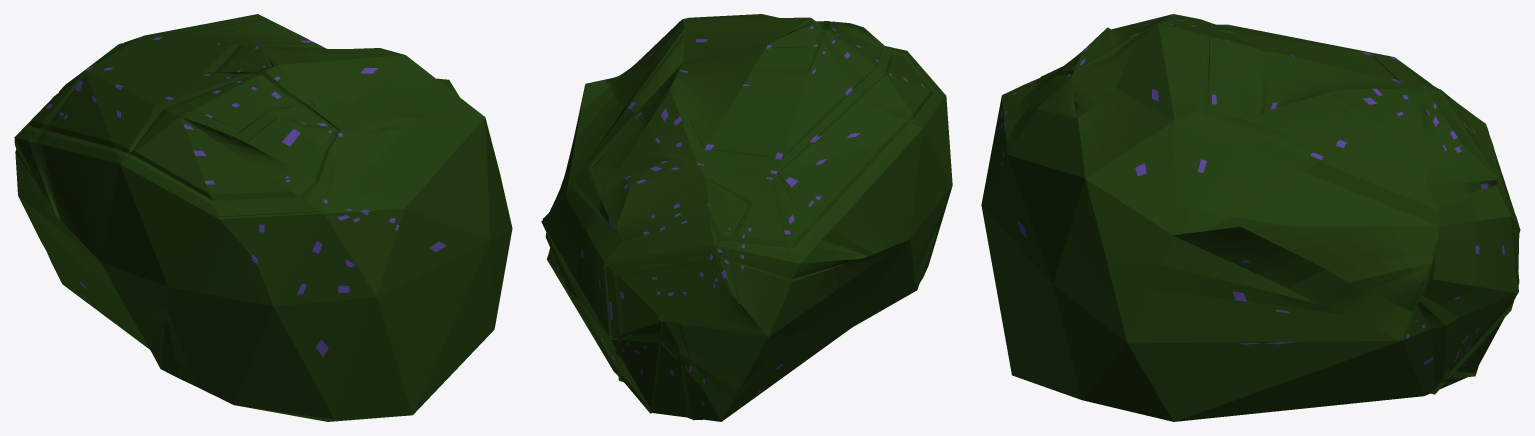
The model's file is blueberry bush.fbx.
3 renders of one model, left to right at view 1: azimuth 30°, elevation 25°; view 2: azimuth 150°, elevation 25°; view 3: azimuth 270°, elevation 25°, orthographic. The views are drawn at different scales.
Visible parts, largest first — view 1: Icosphere; view 2: Icosphere; view 3: Icosphere.
Boxes of the visible parts, x1,y1,x2,y2 form: Icosphere: [14, 14, 512, 421]; Icosphere: [541, 14, 952, 421]; Icosphere: [981, 14, 1520, 421].
Bounding box in the file's own units: 245 × 217 × 308.
